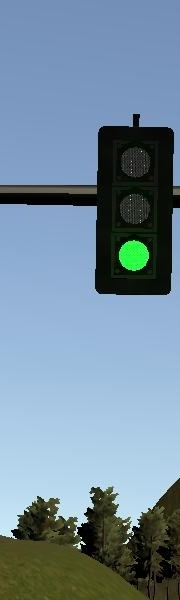Green: (94, 123, 172, 297)
